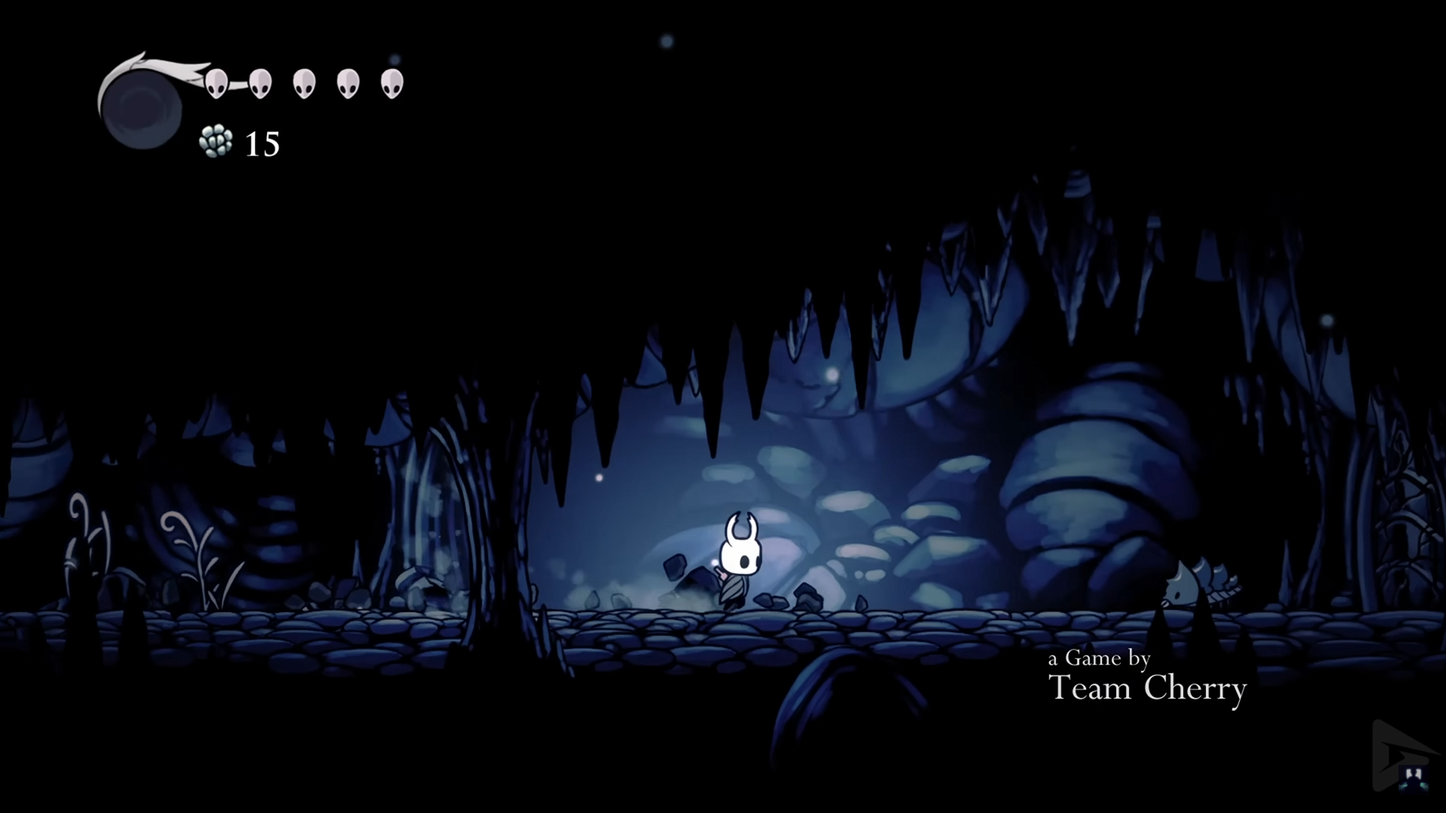HK: (706, 507, 766, 615)
